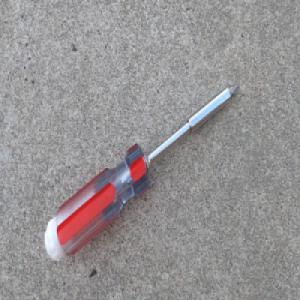Screwdriver: (43, 81, 240, 262)
